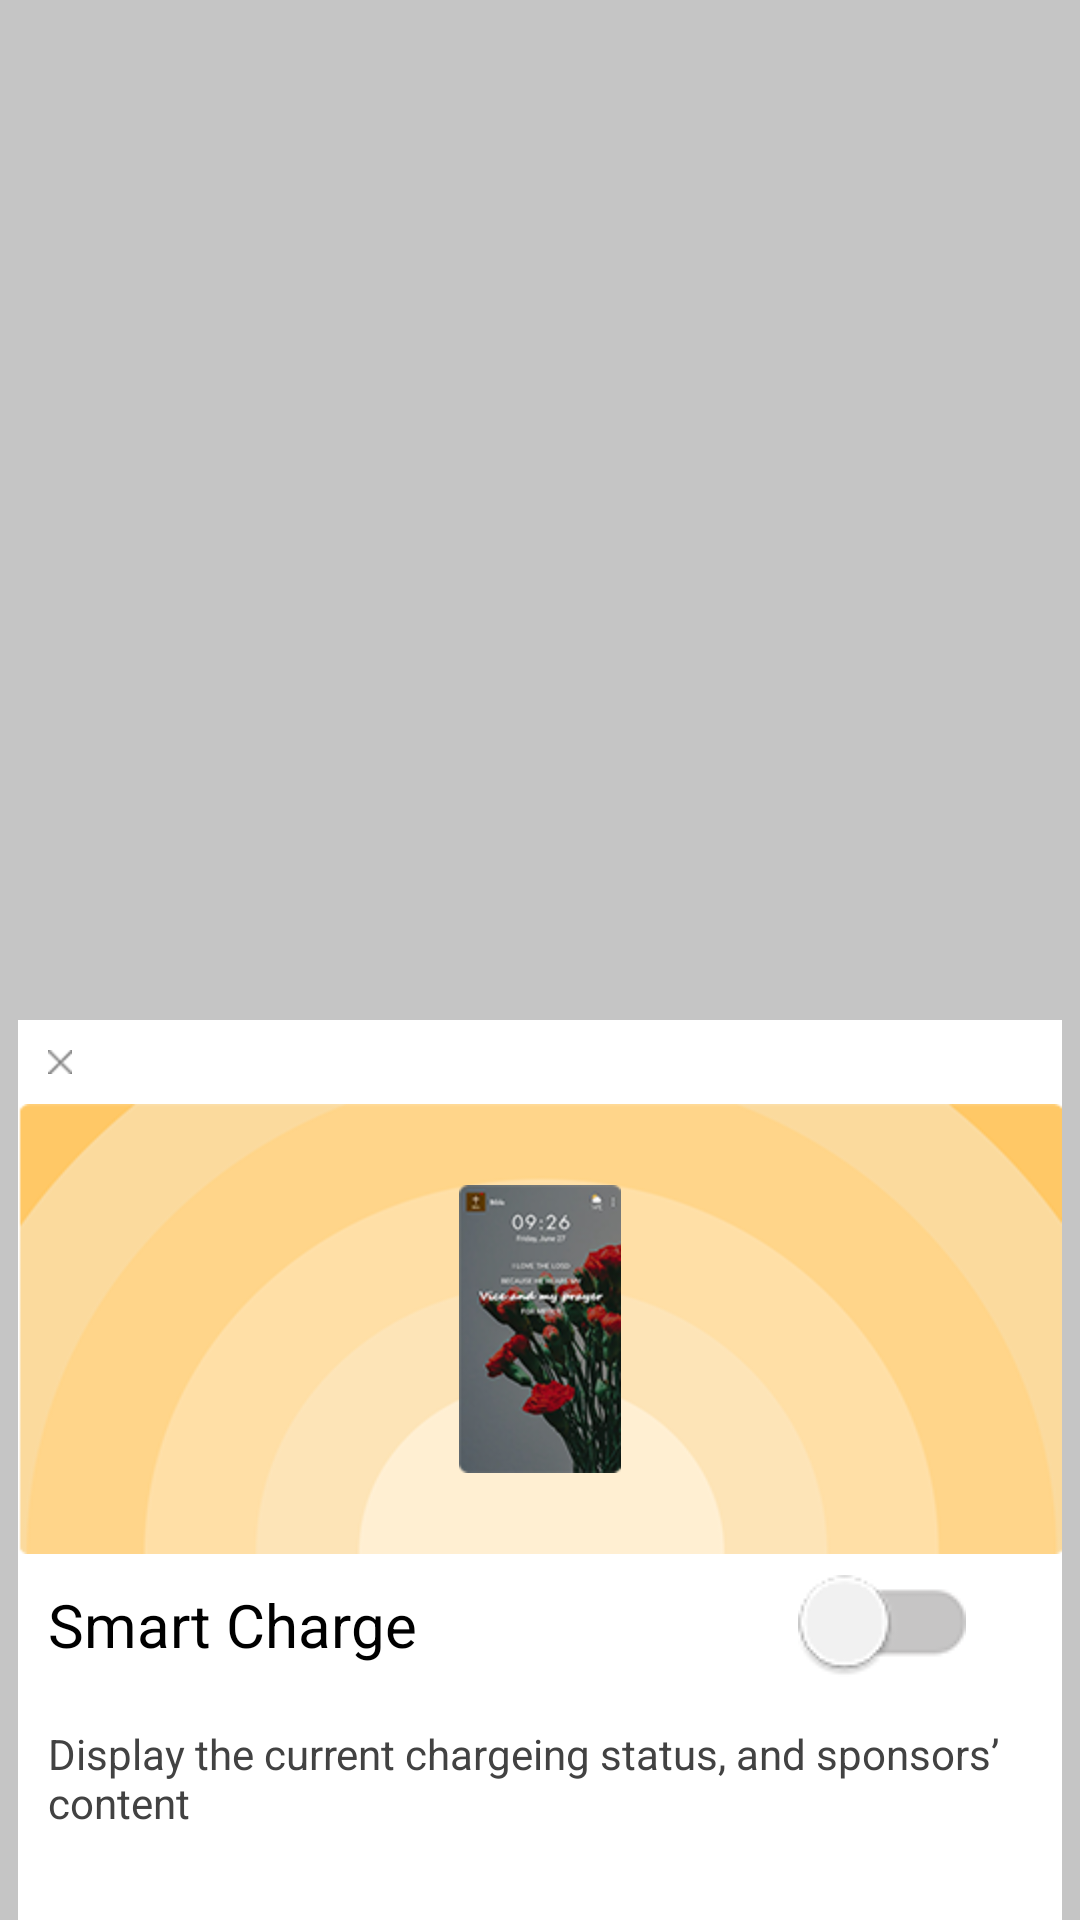

Icon click points for this 1080×1920 phone screenshot, format (x=x, y=y):
close: (x=60, y=1062)
phonecontent: (x=540, y=1329)
